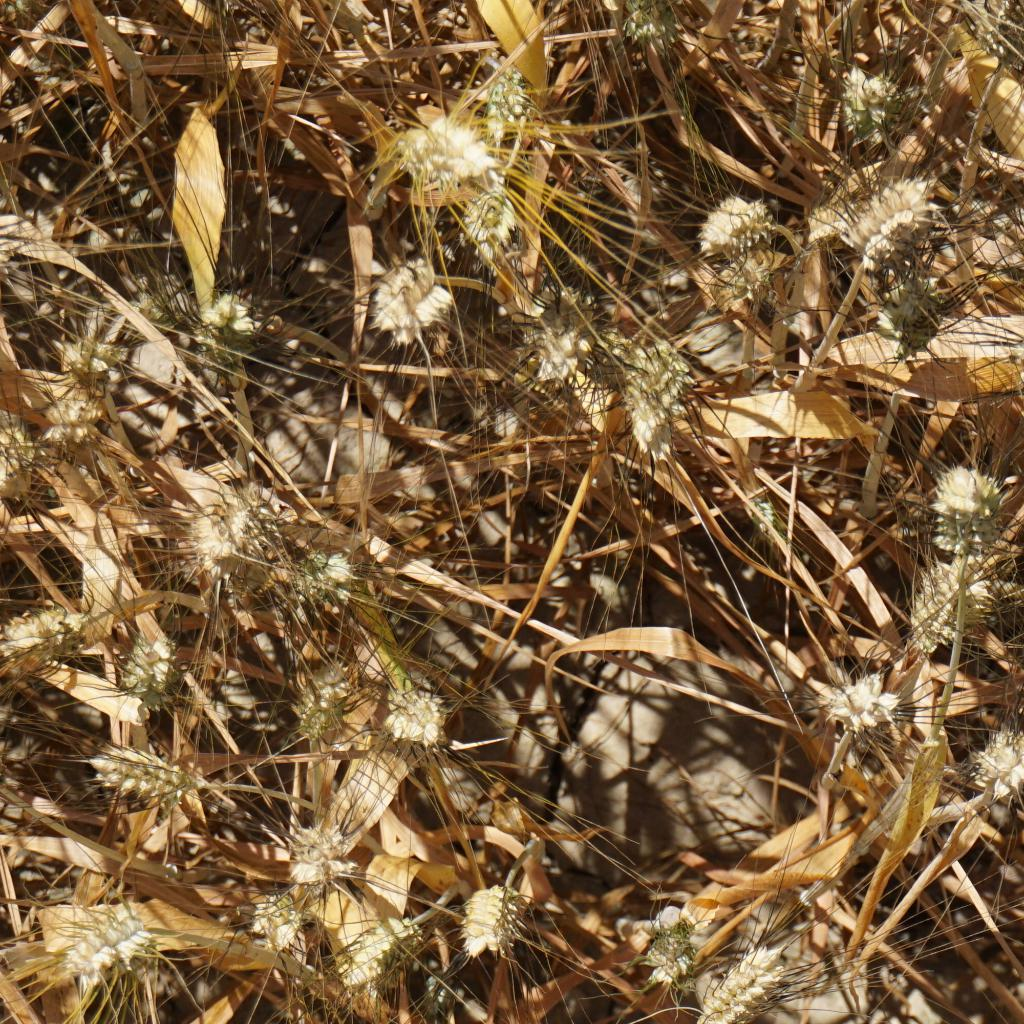0-0: (840, 168, 964, 289), (615, 330, 710, 468), (38, 888, 157, 972), (876, 263, 962, 373), (393, 96, 486, 195), (188, 287, 283, 381), (363, 256, 458, 350), (102, 725, 207, 810), (700, 245, 796, 334), (533, 283, 617, 374), (836, 61, 923, 146), (459, 172, 530, 275), (796, 181, 894, 252), (46, 316, 134, 394), (295, 659, 367, 752), (918, 467, 996, 547), (704, 950, 787, 1024), (469, 47, 540, 132), (290, 823, 380, 890), (36, 379, 118, 452), (908, 564, 982, 640), (90, 284, 192, 339), (179, 502, 261, 568), (4, 598, 76, 671), (241, 887, 314, 958), (325, 914, 392, 991), (109, 630, 187, 696), (457, 874, 523, 952), (824, 672, 899, 736), (379, 682, 449, 748), (695, 192, 768, 252), (645, 924, 705, 992), (285, 540, 354, 597), (610, 0, 687, 51), (974, 722, 1024, 800), (974, 572, 1024, 635), (0, 425, 31, 507), (1011, 216, 1024, 295)
